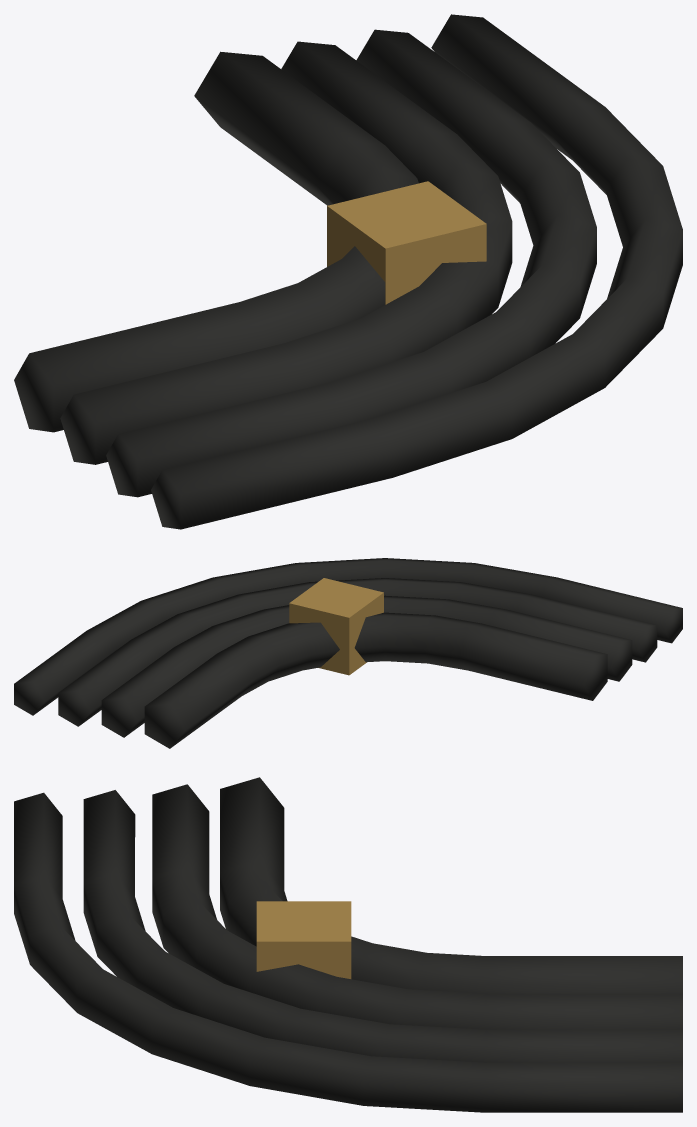
File: cable_bend.glb
The picture shows the model from 3 angles, top to bottom: view 1: azimuth 30°, elevation 25°; view 2: azimuth 150°, elevation 25°; view 3: azimuth 270°, elevation 25°; orthographic projection. The views are drawn at different scales.
Visible parts, largest first — view 1: cable_bend; view 2: cable_bend; view 3: cable_bend.
Part boxes in pixels (<box>): cable_bend: <box>14,14,682,529</box>; cable_bend: <box>14,558,682,748</box>; cable_bend: <box>14,777,682,1112</box>.
Bounding box in the file's own units: 0.8475 × 0.11 × 0.8475.
